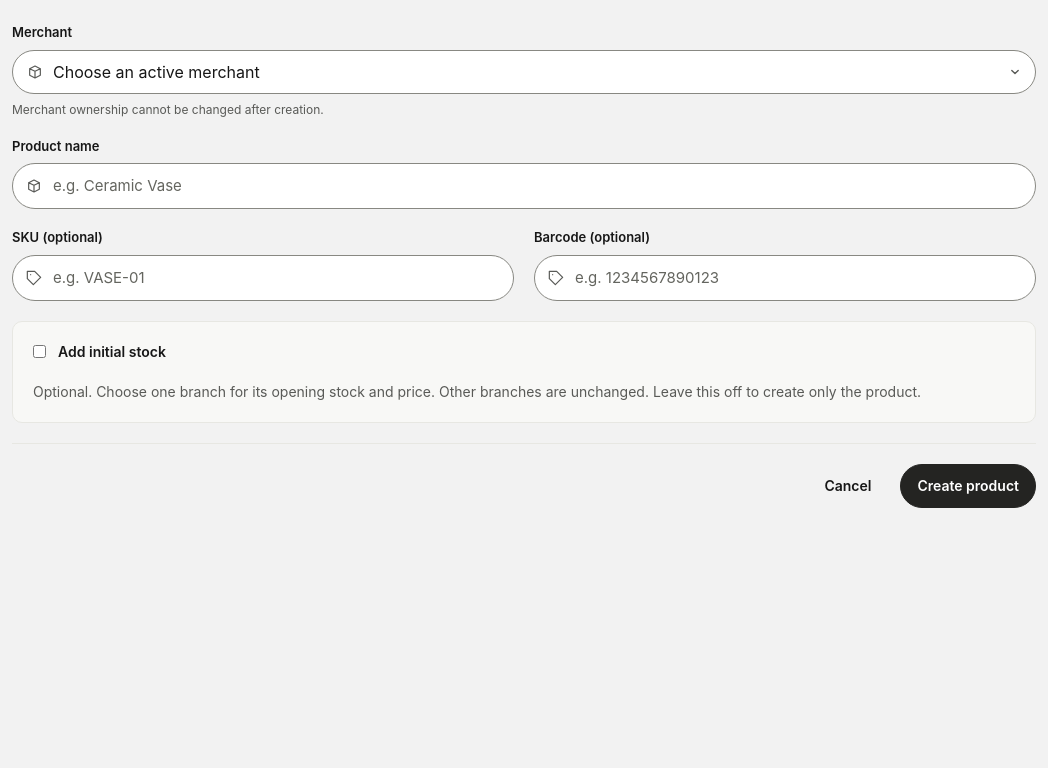
Test: Optional new-product opening stock › blocks enabled creation during branch loading and after read failure, with read-only retry
Click the dropdown labelled "merchant".
click(156, 72)  # box 12,50 -> 1036,94
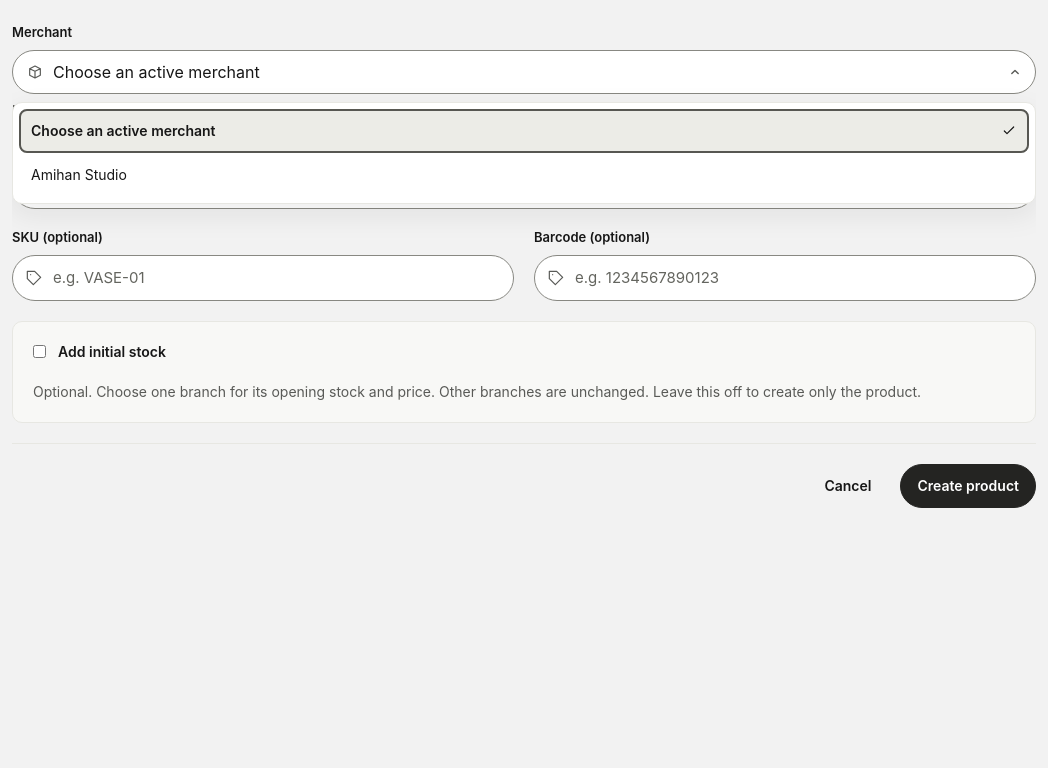
Click the option "Amihan Studio".
click(79, 174)  # box 19,152 -> 1029,196
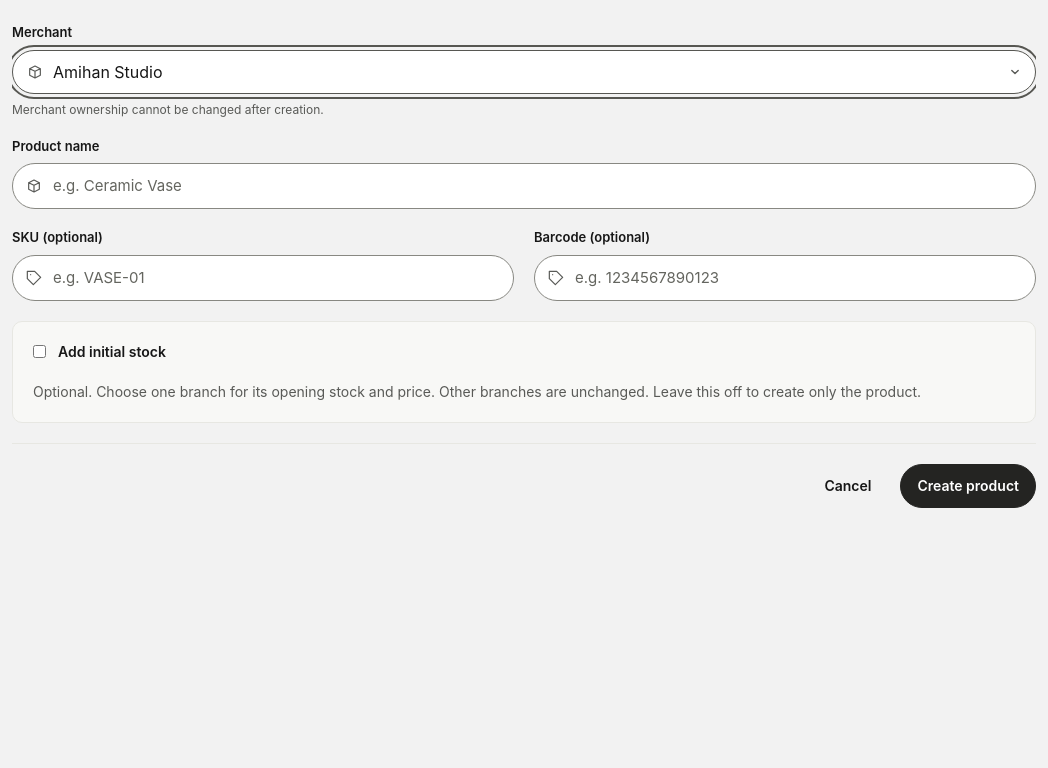
Type " Vase " into the field labelled "Product name".
click(524, 186); type(" Vase ")  # box 12,163 -> 1036,209
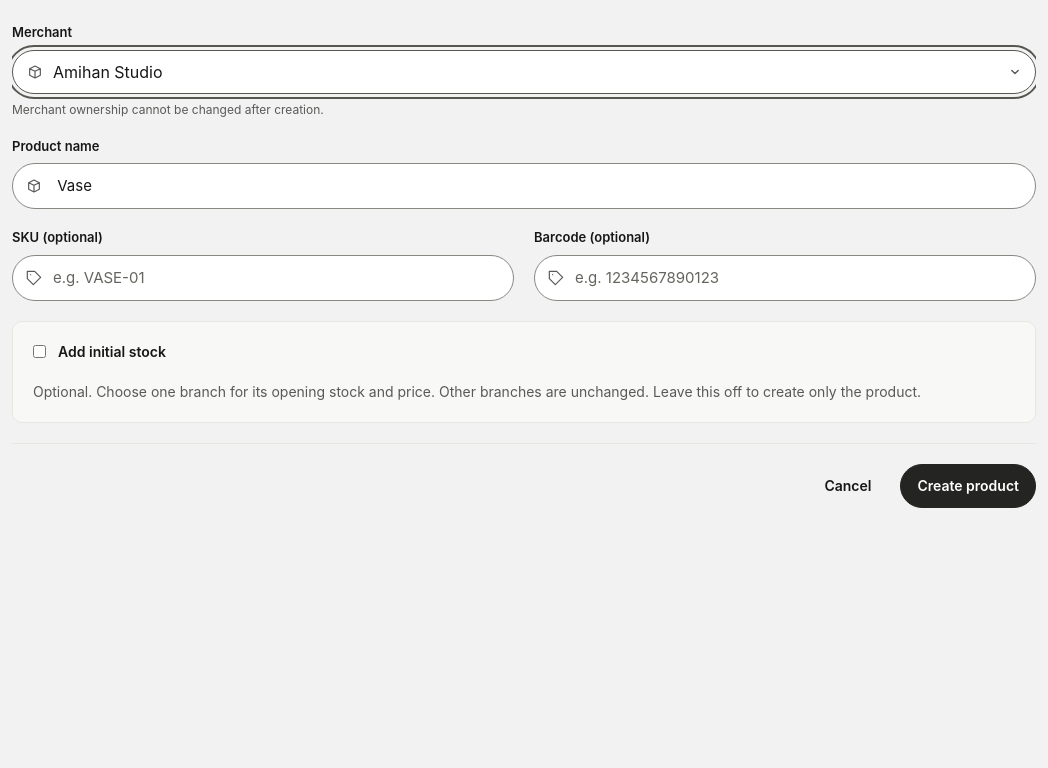
Click the checkbox.
click(40, 352)  # box 33,345 -> 46,358
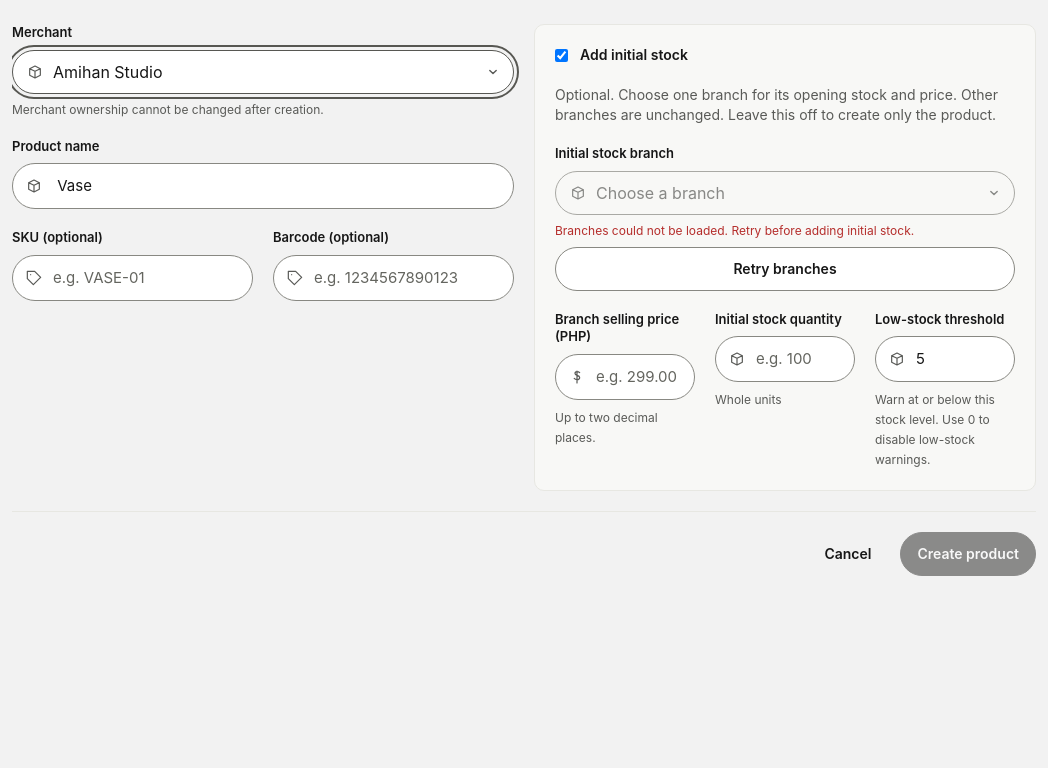
Expected: the button "Retry branches" is shown
Expected: the button "Create product" is disabled, 900,532 -> 1036,576
Click the button "Retry branches".
click(785, 268)  # box 555,246 -> 1015,290
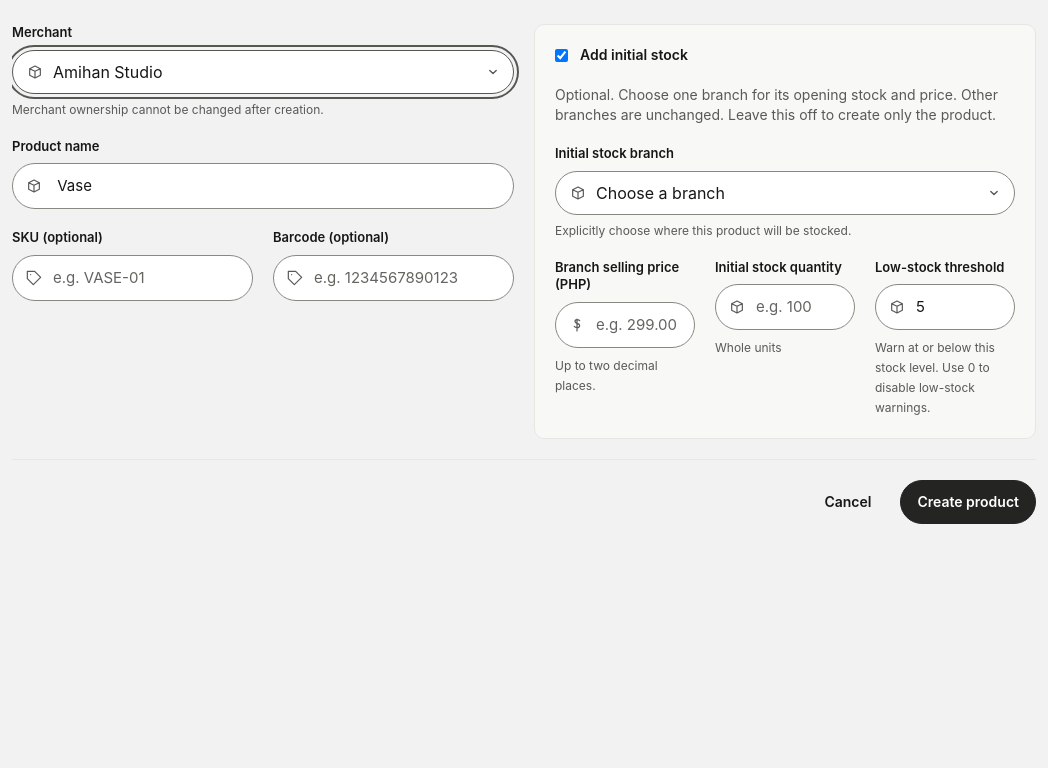
Expected: the dropdown named "Initial stock branch" is enabled, 555,170 -> 1015,214
